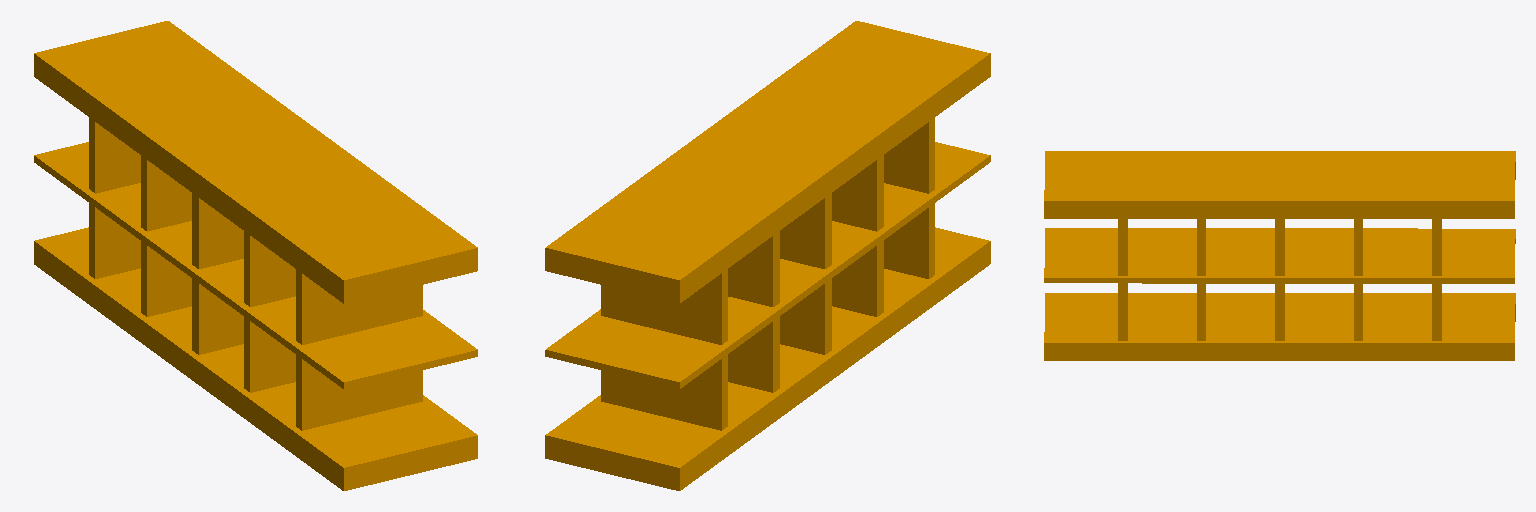
The robot description file, URDF, robot "cabinet.urdf":
<?xml version="0.0" ?>
<robot name="cabinet.urdf">
  <link name="baseLink" concave="yes">
    <contact>
      <lateral_friction value="1.0"/>
      <rolling_friction value="0.0"/>
      <contact_cfm value="0.0"/>
      <contact_erp value="1.0"/>
    </contact>
    <inertial>
      <origin rpy="0 0 0" xyz="0.0 0.02 0.0"/>
       <mass value="5.1"/>
       <inertia ixx="1" ixy="0" ixz="0" iyy="1" iyz="0" izz="1"/>
    </inertial>
    <visual>
      <origin rpy="0 0 1.57" xyz="0 0 0"/>
      <geometry>
        <mesh filename="cabinet.obj" scale="1 1 1"/>
      </geometry>
    </visual>
    <collision concave="yes">
      <origin rpy="0 0 1.57" xyz="0 0 0"/>
      <geometry>
	 	<mesh filename="cabinet.obj" scale="1 1 1"/>
      </geometry>
    </collision>
  </link>
</robot>

--- Facts derived from the render (not from the file) ---
The picture shows the robot from 3 angles, left to right: view 1: azimuth 30°, elevation 25°; view 2: azimuth 150°, elevation 25°; view 3: azimuth 270°, elevation 25°; orthographic projection.
Model cabinet.urdf with 1 links and 0 joints (none), rooted at baseLink, posed all joints at 0.
Links seen in each view (by area): view 1: baseLink; view 2: baseLink; view 3: baseLink.
Link boxes in pixels (bbox=[...]): baseLink: bbox=[34, 21, 477, 490]; baseLink: bbox=[545, 21, 990, 490]; baseLink: bbox=[1044, 151, 1515, 360].
Bounding box of the posed robot: 0.301 × 1.2 × 0.45 m (x, y, z).
1 mesh visuals loaded from 1 distinct referenced files (1 OBJ).